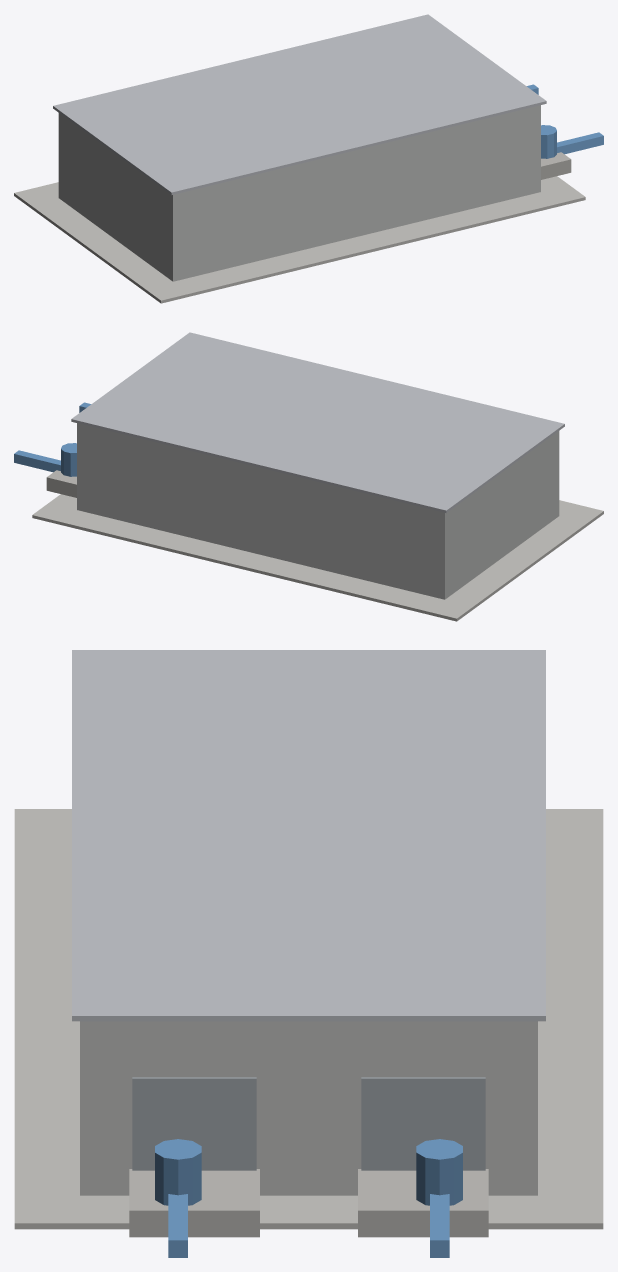
Rendered from 15_industrial_logistics-09.glb.
The picture shows the model from 3 angles, top to bottom: view 1: azimuth 30°, elevation 25°; view 2: azimuth 150°, elevation 25°; view 3: azimuth 270°, elevation 25°; orthographic projection. The views are drawn at different scales.
Size of the model in its own units: 34 by 6.38 by 18.
